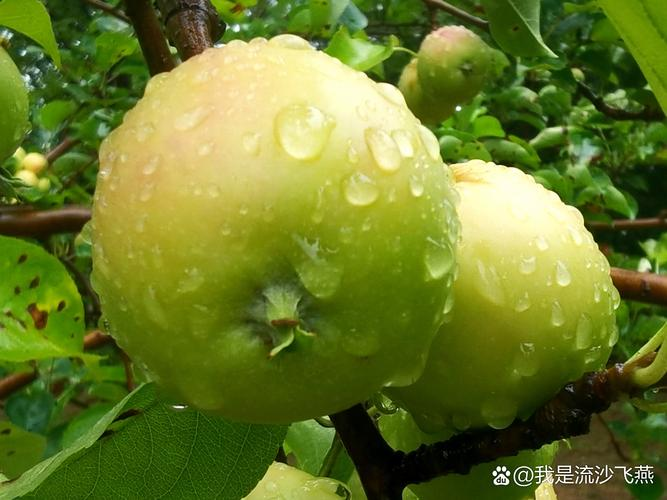unripe: (71, 34, 464, 431), (385, 145, 626, 443)
